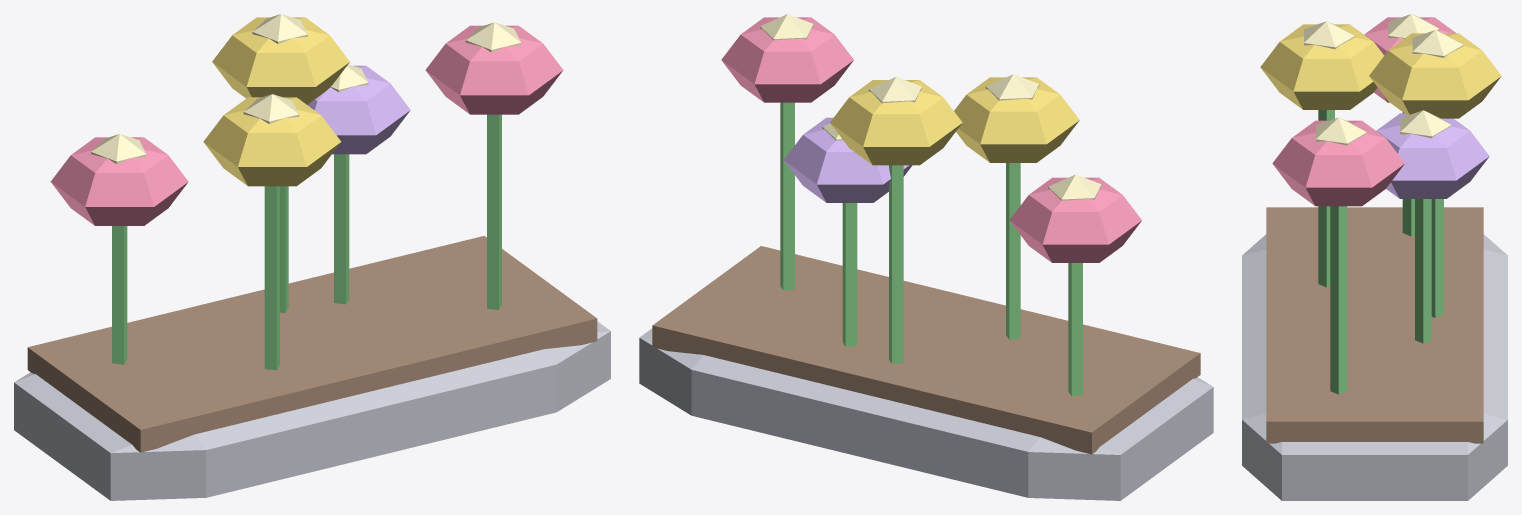
The model's file is CF_Flowers.fbx.
3 views of the same model, side by side, from view 1: azimuth 30°, elevation 25°; view 2: azimuth 150°, elevation 25°; view 3: azimuth 270°, elevation 25° (orthographic). The views are drawn at different scales.
Parts seen in each view (by area): view 1: CF_Flowers_Soil, CF_Flowers_Bed, CF_Flowers_Petal, CF_Flowers_PetalB, CF_Flowers_Stem, CF_Flowers_PetalC, CF_Flowers_Heart; view 2: CF_Flowers_Soil, CF_Flowers_Bed, CF_Flowers_Petal, CF_Flowers_PetalB, CF_Flowers_Stem, CF_Flowers_PetalC, CF_Flowers_Heart; view 3: CF_Flowers_Soil, CF_Flowers_Bed, CF_Flowers_PetalB, CF_Flowers_Stem, CF_Flowers_Petal, CF_Flowers_PetalC, CF_Flowers_Heart.
Boxes of the visible parts, x1,y1,x2,y2 form: CF_Flowers_Soil: (27,236,597,452); CF_Flowers_Bed: (14,321,610,500); CF_Flowers_Petal: (50,25,563,225); CF_Flowers_PetalB: (203,17,349,186); CF_Flowers_Stem: (112,114,501,370); CF_Flowers_PetalC: (307,65,410,154); CF_Flowers_Heart: (91,14,521,163); CF_Flowers_Soil: (652,246,1200,454); CF_Flowers_Bed: (639,328,1213,500); CF_Flowers_Petal: (721,17,1141,262); CF_Flowers_PetalB: (830,77,1079,165); CF_Flowers_Stem: (780,102,1082,396); CF_Flowers_PetalC: (783,117,912,202); CF_Flowers_Heart: (760,14,1101,200); CF_Flowers_Soil: (1266,207,1483,443); CF_Flowers_Bed: (1242,234,1507,500); CF_Flowers_PetalB: (1260,24,1501,118); CF_Flowers_Stem: (1318,110,1443,394); CF_Flowers_Petal: (1272,17,1455,206); CF_Flowers_PetalC: (1376,113,1489,198); CF_Flowers_Heart: (1304,14,1463,145).
Bounding box in the file's own units: 4.6 × 3.32 × 2.2.
